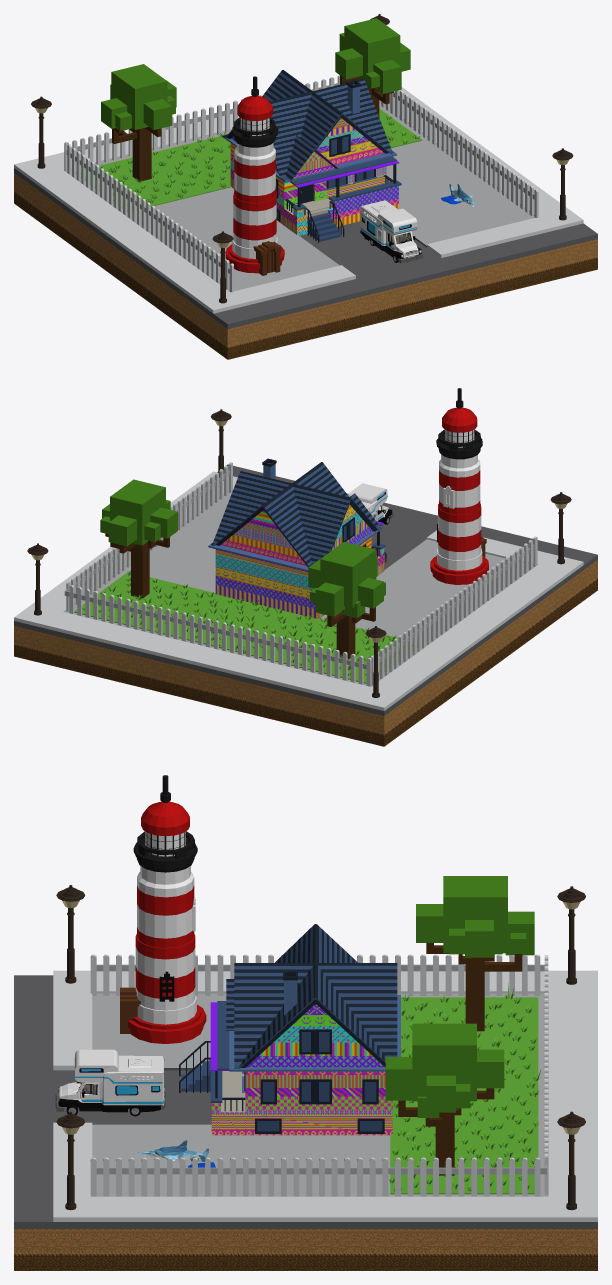
3 renders of one model, top to bottom at view 1: azimuth 30°, elevation 25°; view 2: azimuth 150°, elevation 25°; view 3: azimuth 270°, elevation 25°, orthographic. The views are drawn at different scales.
Visible parts, largest first — view 1: Cube.004, Cube.676, OBJRANDOM_LIGHTHOUSE, VEHICLES_CAMPER; view 2: Cube.004, Cube.676, OBJRANDOM_LIGHTHOUSE, VEHICLES_CAMPER; view 3: Cube.004, Cube.676, OBJRANDOM_LIGHTHOUSE, VEHICLES_CAMPER, ANIMAL_PEZ_ESPADA.
Part boxes in pixels (x1=…): Cube.004: x1=14, y1=14, x2=597, y2=359; Cube.676: x1=222, y1=70, x2=401, y2=242; OBJRANDOM_LIGHTHOUSE: x1=225, y1=76, x2=284, y2=275; VEHICLES_CAMPER: x1=360, y1=200, x2=423, y2=263; Cube.004: x1=14, y1=409, x2=597, y2=746; Cube.676: x1=208, y1=458, x2=386, y2=618; OBJRANDOM_LIGHTHOUSE: x1=430, y1=388, x2=488, y2=584; VEHICLES_CAMPER: x1=348, y1=483, x2=393, y2=525; Cube.004: x1=14, y1=876, x2=597, y2=1270; Cube.676: x1=179, y1=924, x2=400, y2=1135; OBJRANDOM_LIGHTHOUSE: x1=120, y1=775, x2=206, y2=1043; VEHICLES_CAMPER: x1=55, y1=1049, x2=165, y2=1116; ANIMAL_PEZ_ESPADA: x1=134, y1=1140, x2=215, y2=1167.
Bounding box in the file's own units: 4000 × 2521 × 4000.
42 materials, 7 textured.
